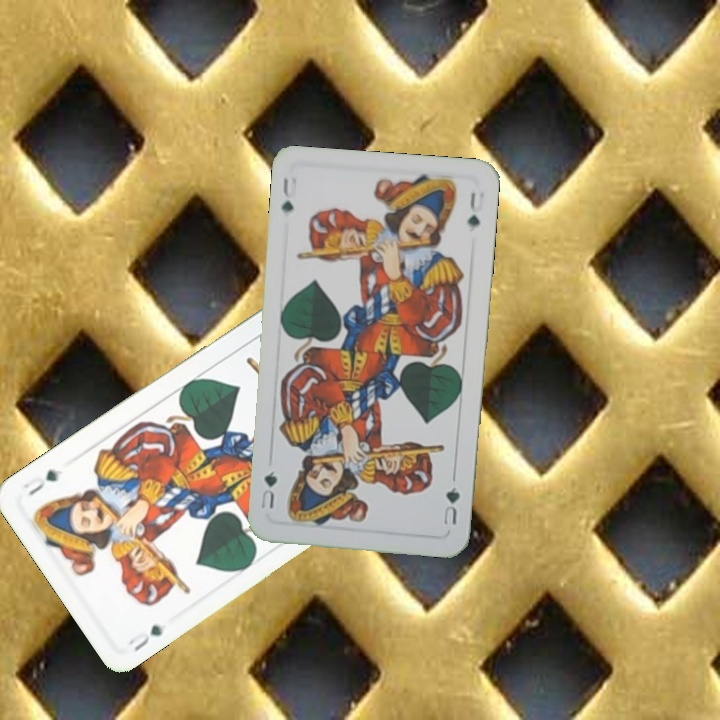GU: (124, 620, 167, 654), (439, 482, 462, 527), (277, 173, 300, 215)
